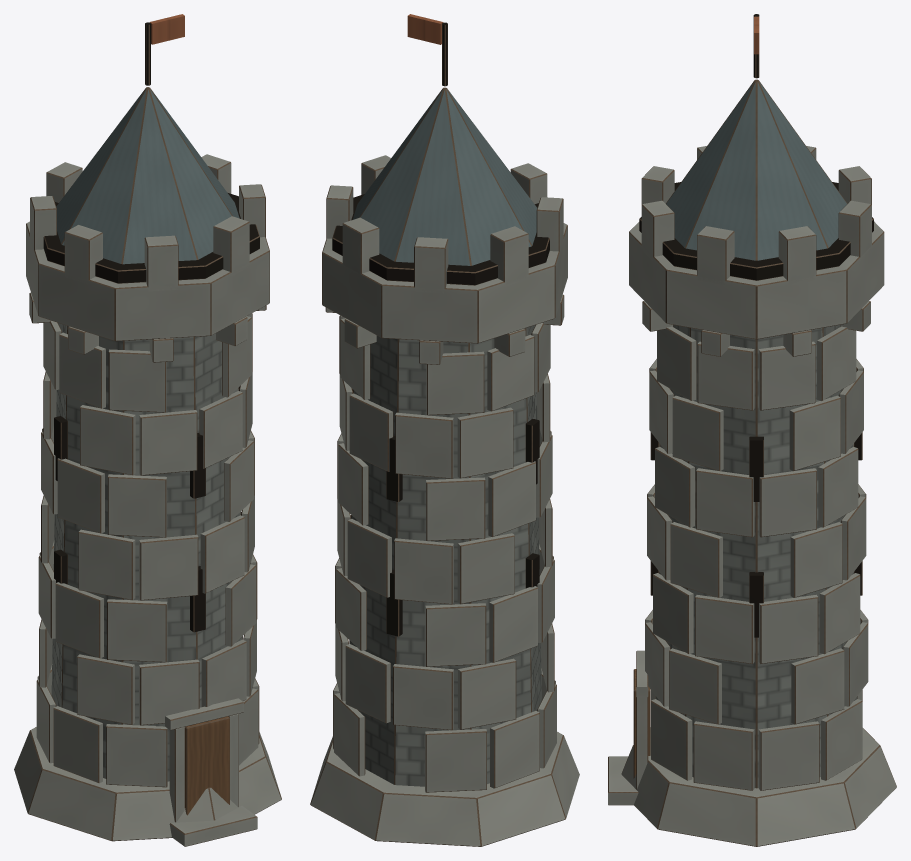
File: watchtower.glb
The picture shows the model from 3 angles, left to right: view 1: azimuth 30°, elevation 25°; view 2: azimuth 150°, elevation 25°; view 3: azimuth 270°, elevation 25°; orthographic projection.
Parts seen in each view (by area): view 1: watchtower; view 2: watchtower; view 3: watchtower.
Part boxes in pixels (box(x1,y1,x2,y2)): watchtower: box(14, 14, 281, 846); watchtower: box(310, 14, 579, 846); watchtower: box(608, 14, 896, 846).
Bounding box in the file's own units: 0.66 × 2 × 0.678.
Materials: 1 (1 with a texture image).
